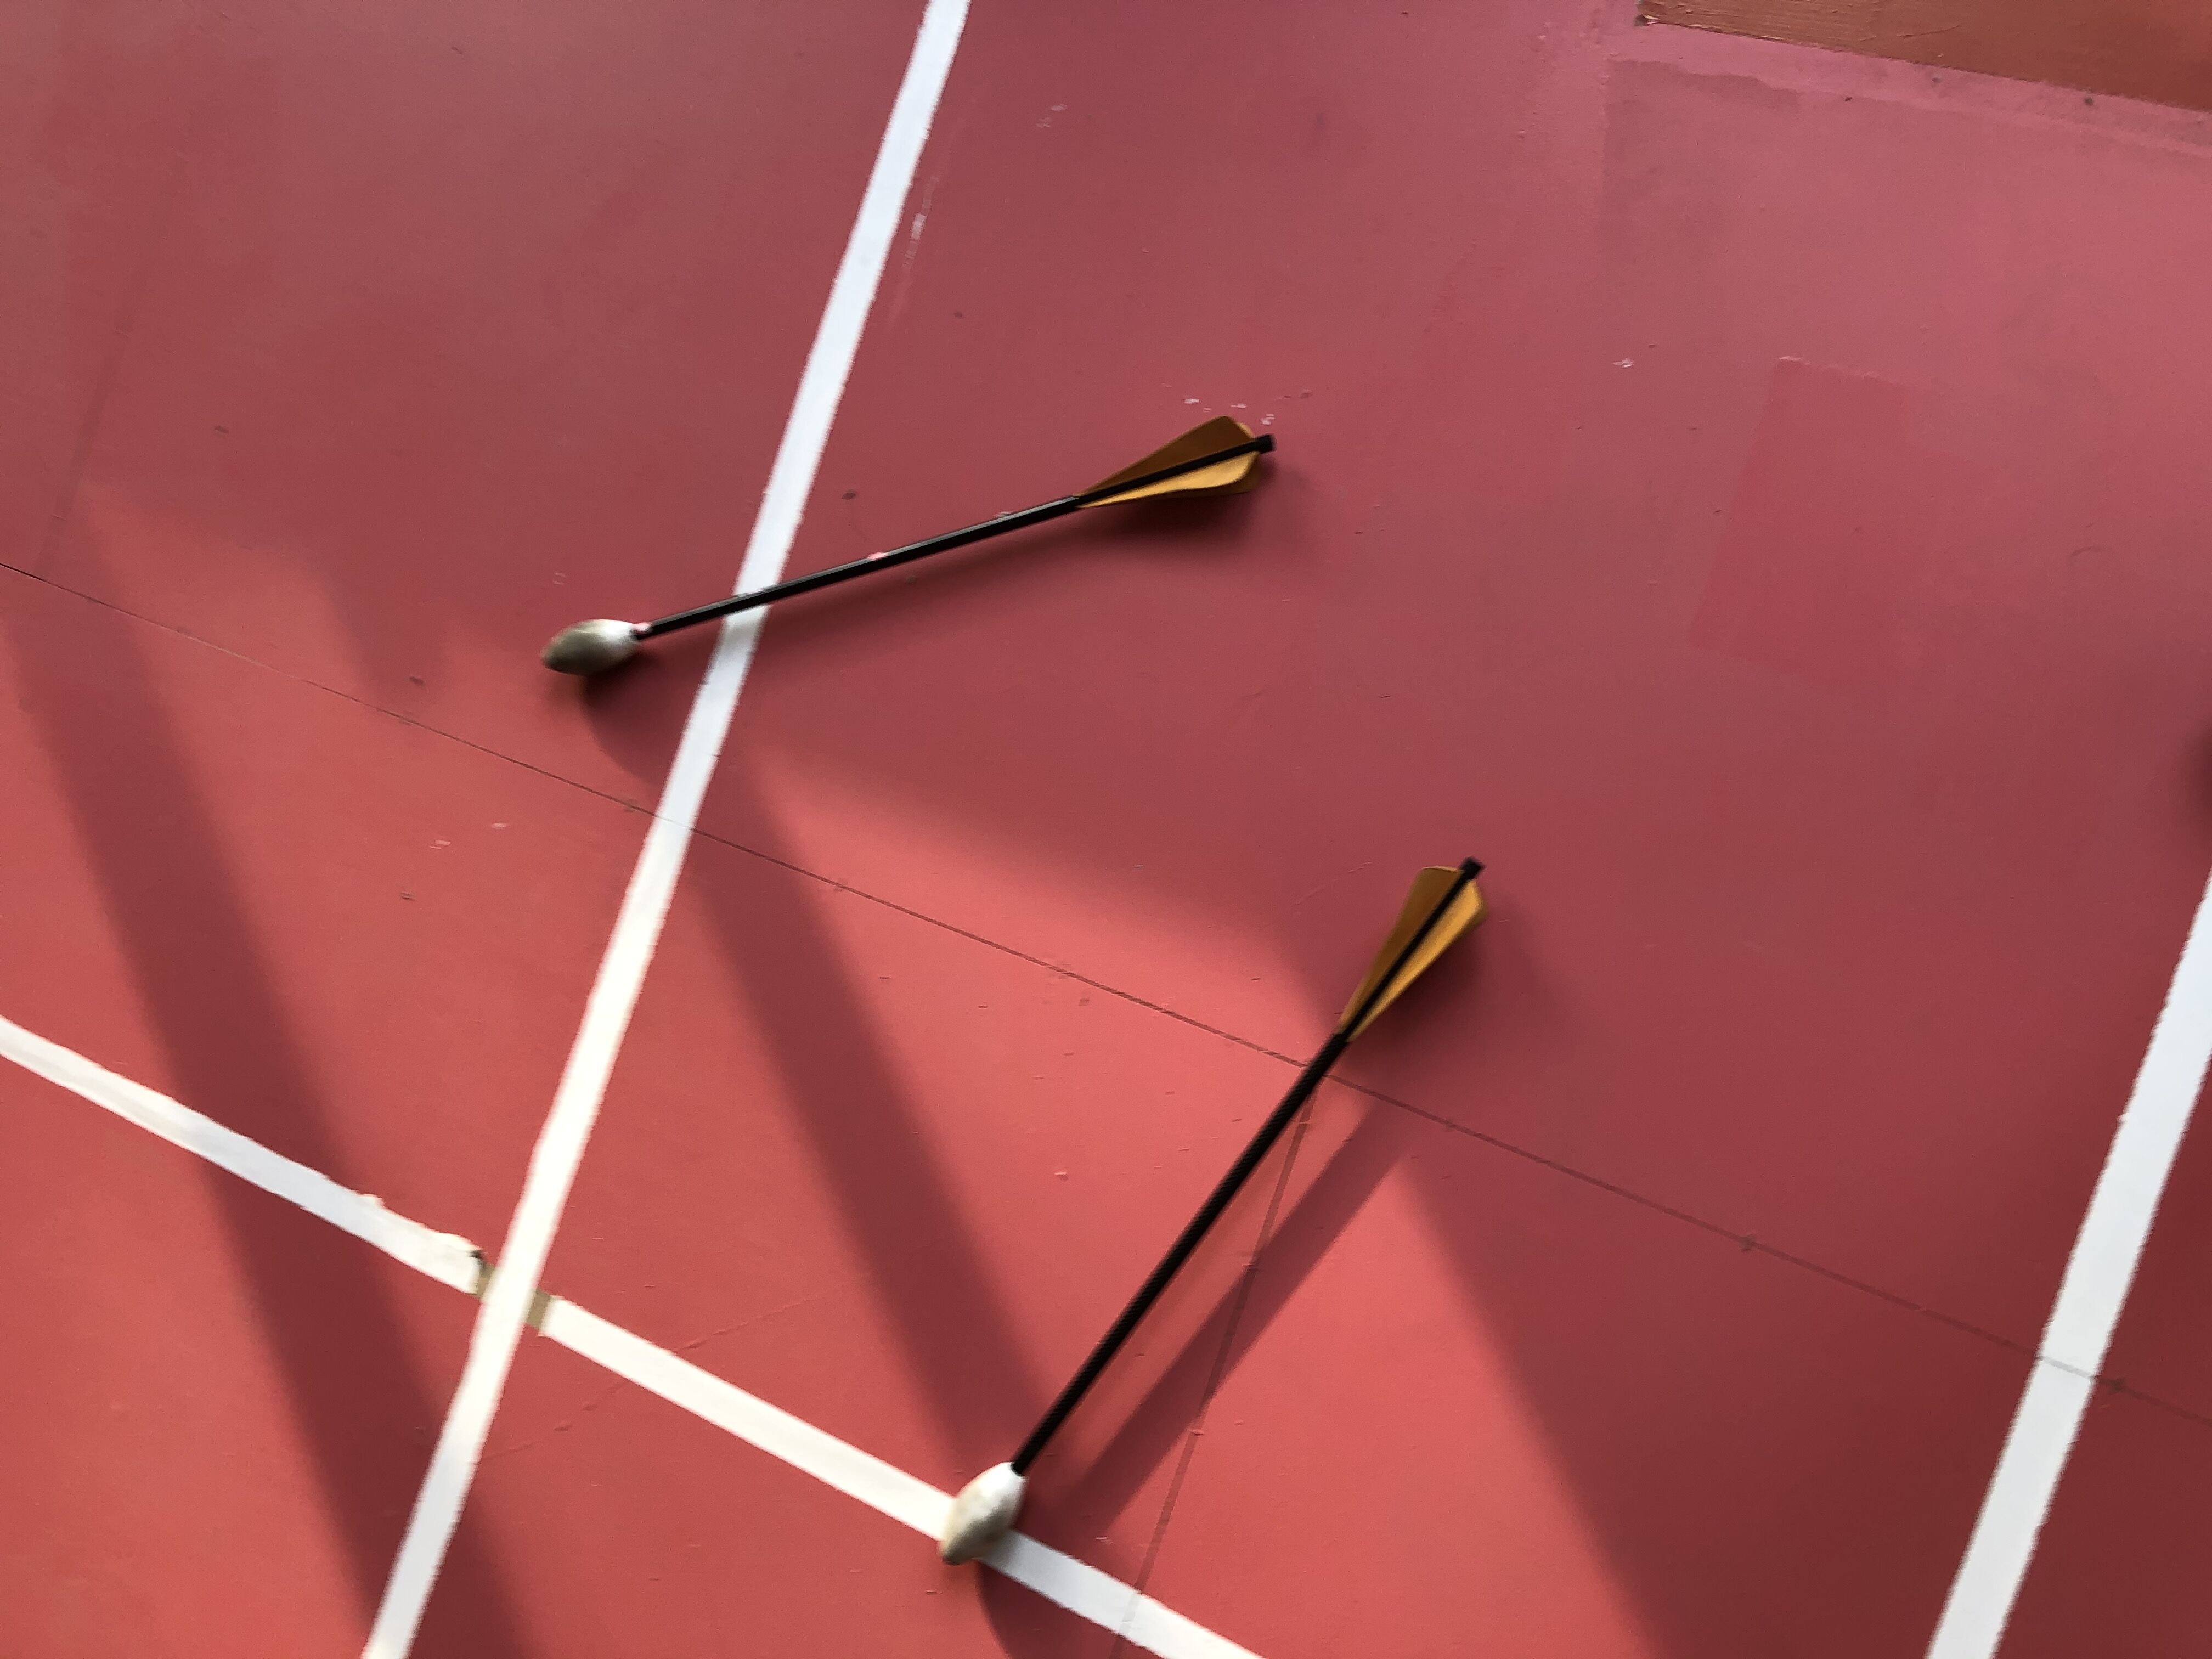arrow: (941, 852, 1486, 1568), (540, 413, 1280, 680)
arrowFront: (937, 1460, 1031, 1561), (540, 617, 646, 676)
